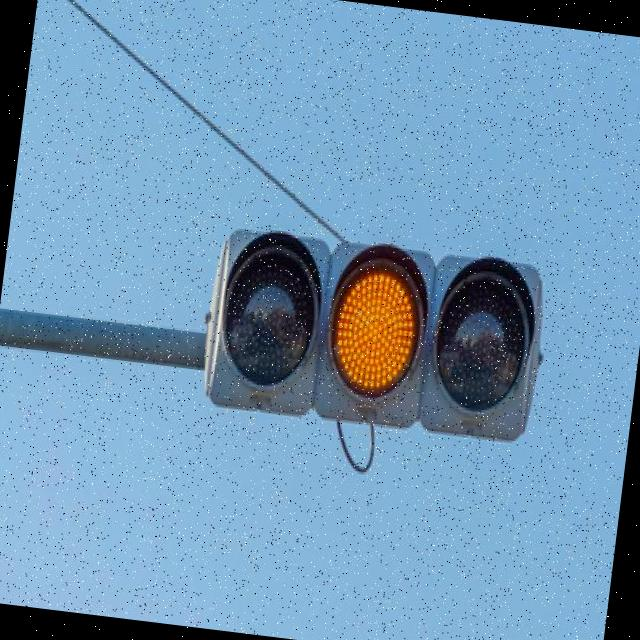yellow_light: (318, 236, 447, 424)
